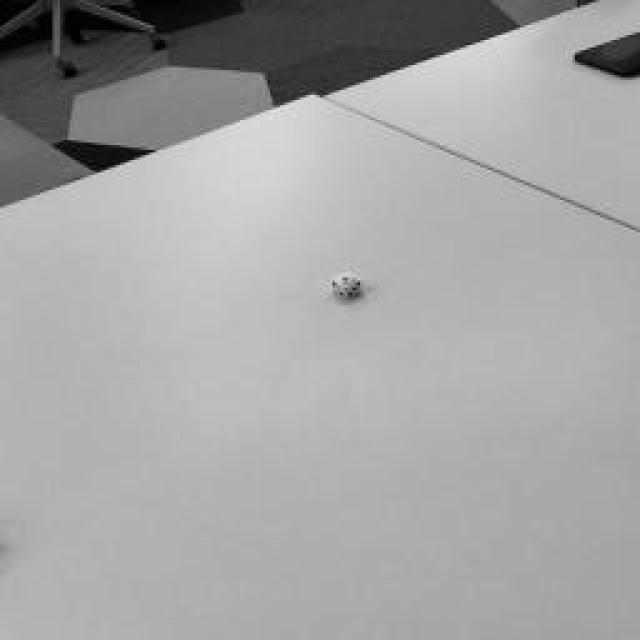dice_1: (332, 272, 362, 288)
